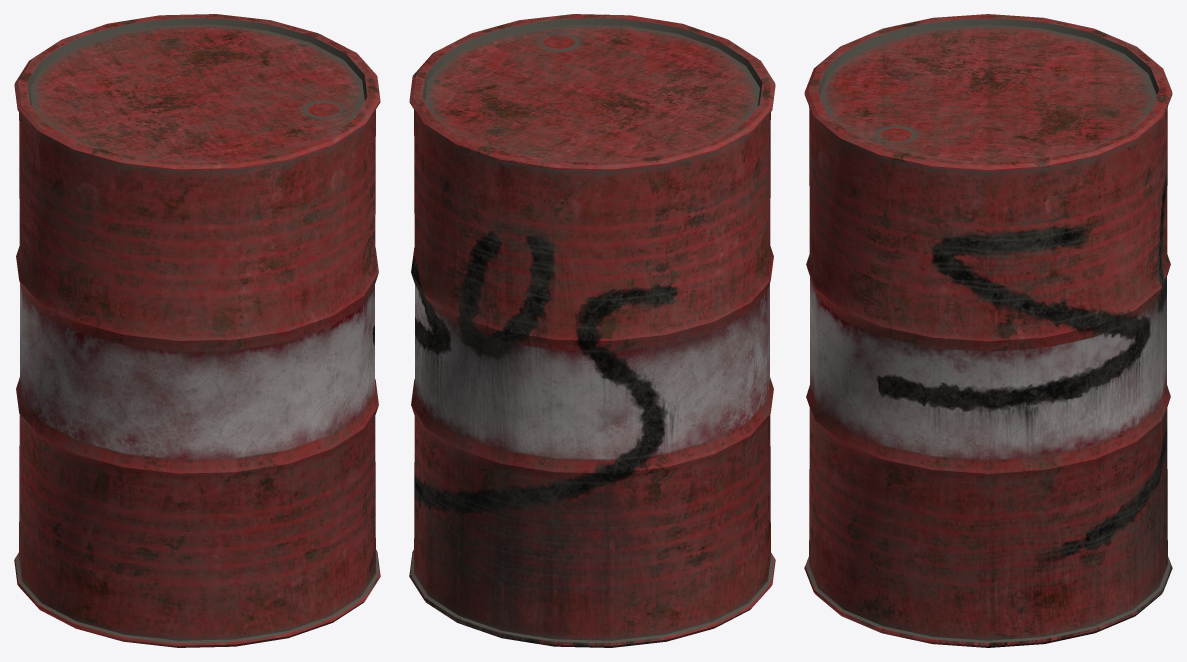
File: low_poly_rusty_barrel.glb
3 renders of one model, left to right at view 1: azimuth 30°, elevation 25°; view 2: azimuth 150°, elevation 25°; view 3: azimuth 270°, elevation 25°, orthographic.
Visible parts, largest first — view 1: LOW poly_0; view 2: LOW poly_0; view 3: LOW poly_0.
Part boxes in pixels (box(x1,y1,x2,y2)): LOW poly_0: box(14, 14, 380, 647); LOW poly_0: box(409, 14, 775, 647); LOW poly_0: box(804, 14, 1172, 647).
Bounding box in the file's own units: 0.5902 × 0.851 × 0.5902.
Materials: 1 (1 with a texture image).
